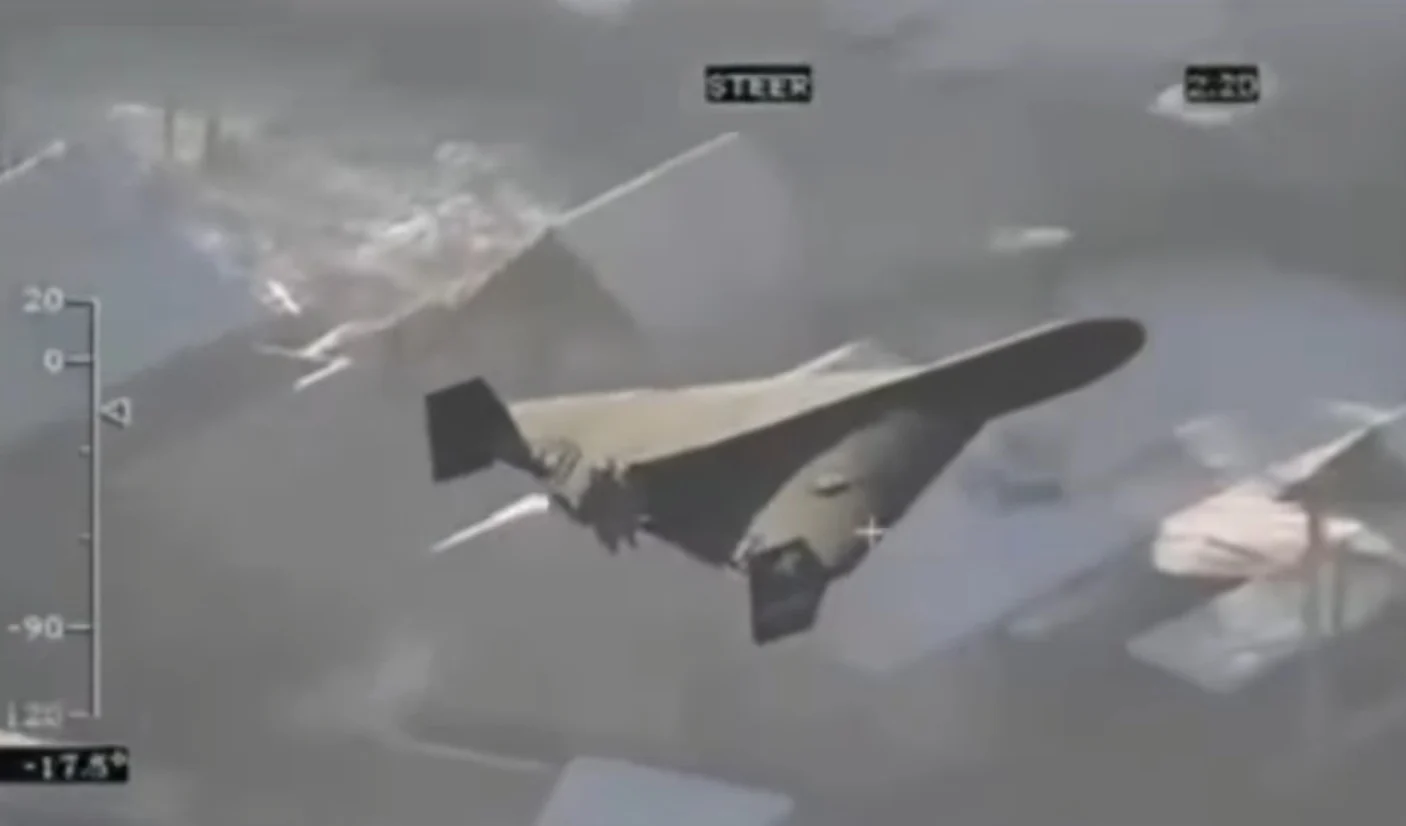shahed: (426, 311, 1150, 641)
